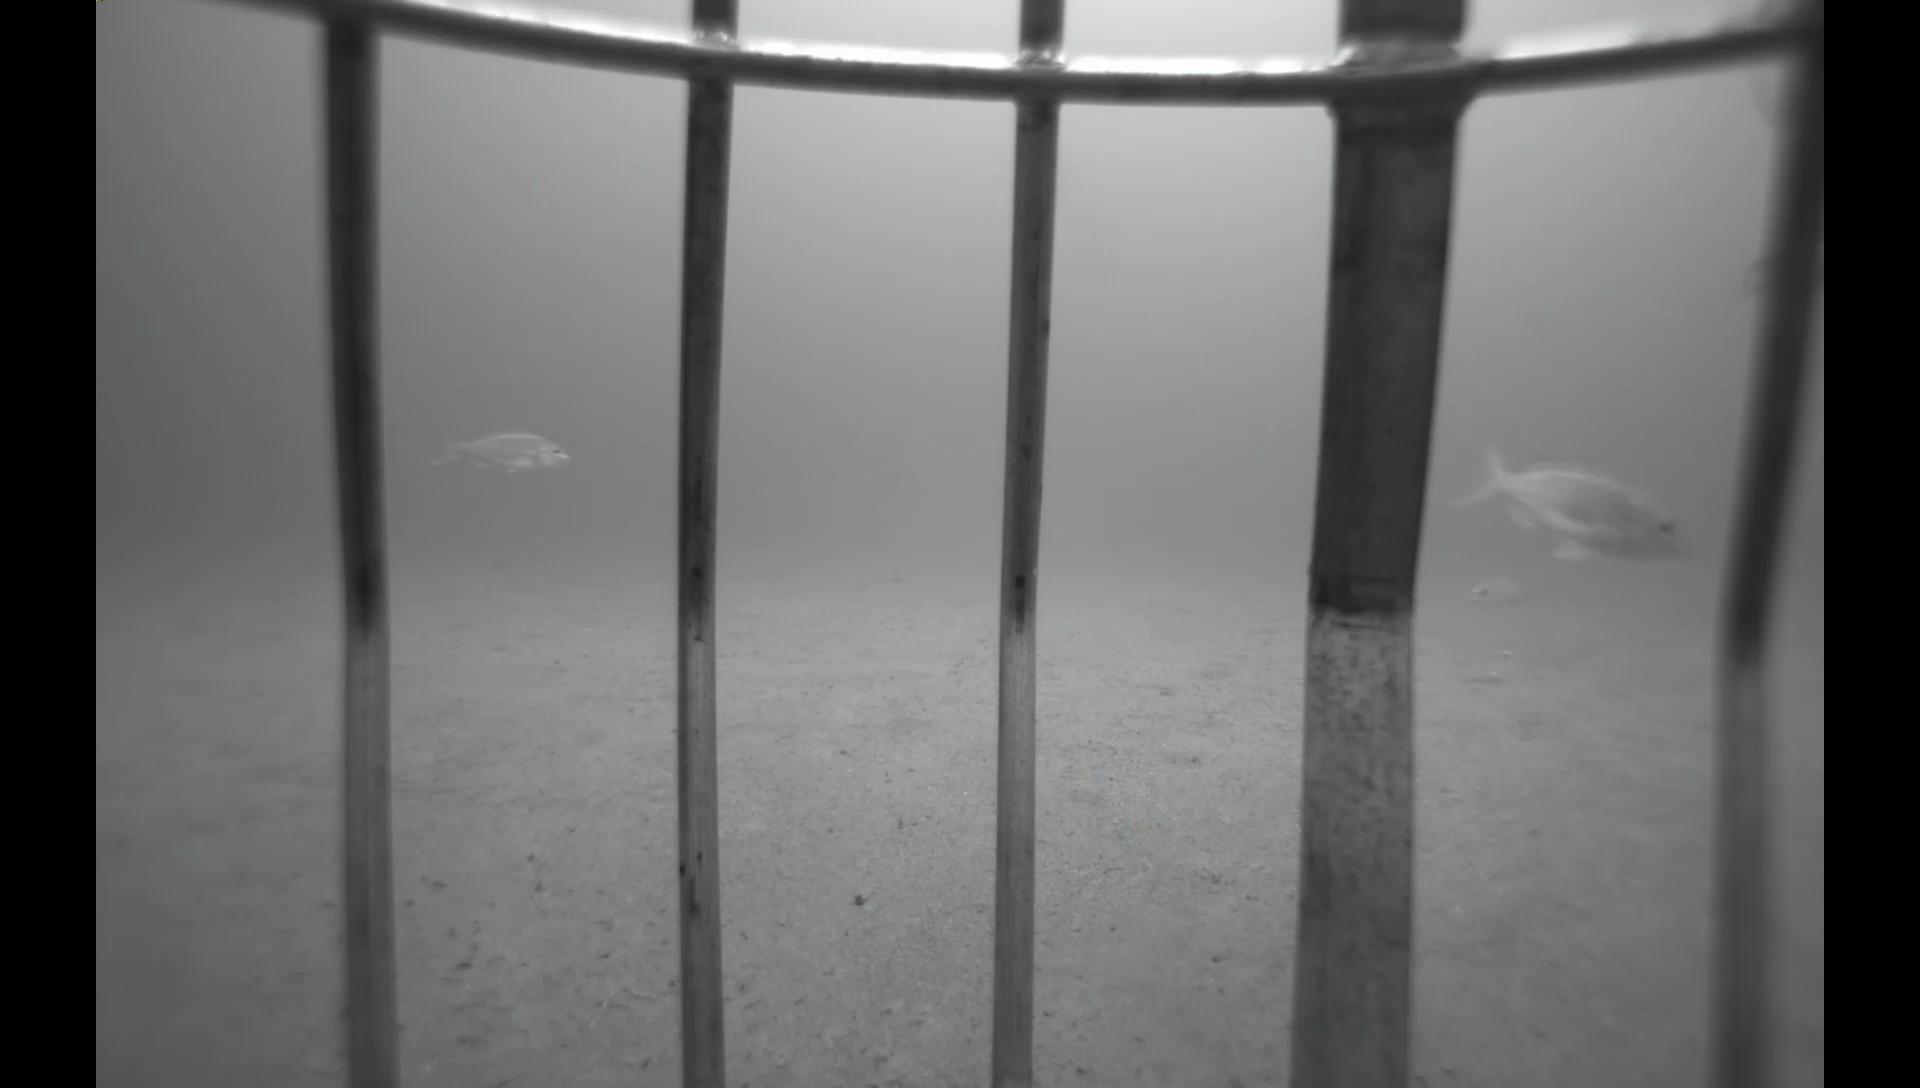CAULOLATILUSCYANOPS-170070101: (1731, 237, 1828, 317)
PAGRUSPAGRUS-170212302: (1453, 560, 1560, 622)
PRISTIPOMOIDES-170151800: (1441, 419, 1704, 582), (422, 421, 578, 480)
